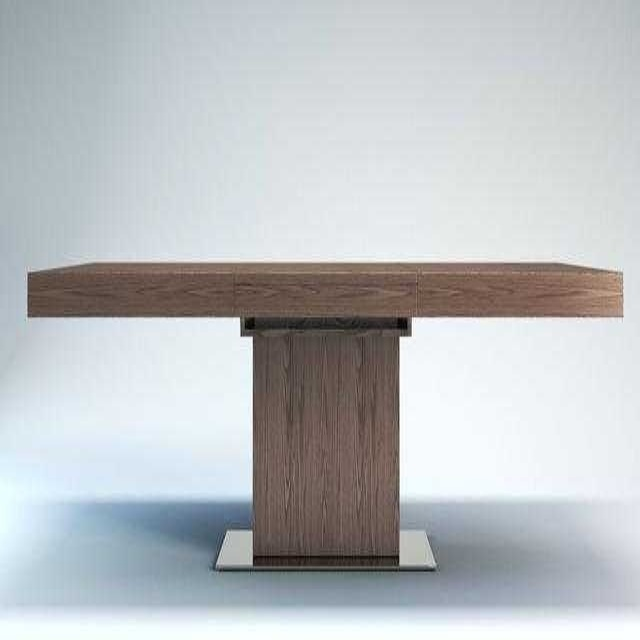obstacle: (27, 261, 622, 566)
